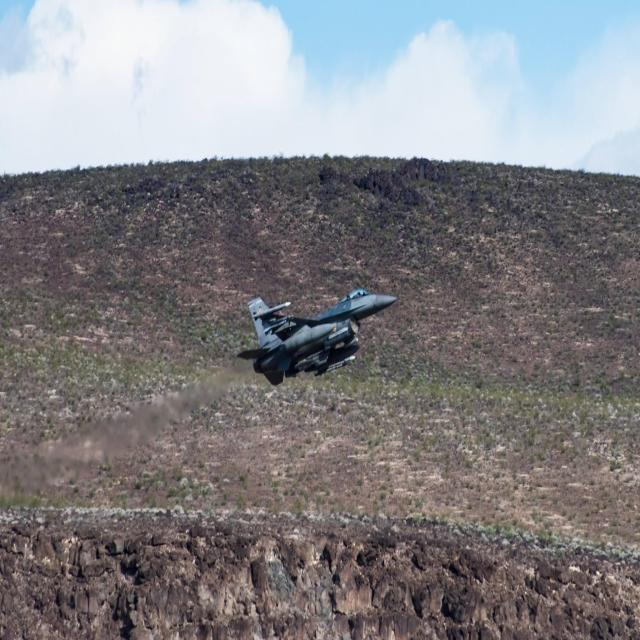MIL_Plane: (237, 288, 398, 386)
